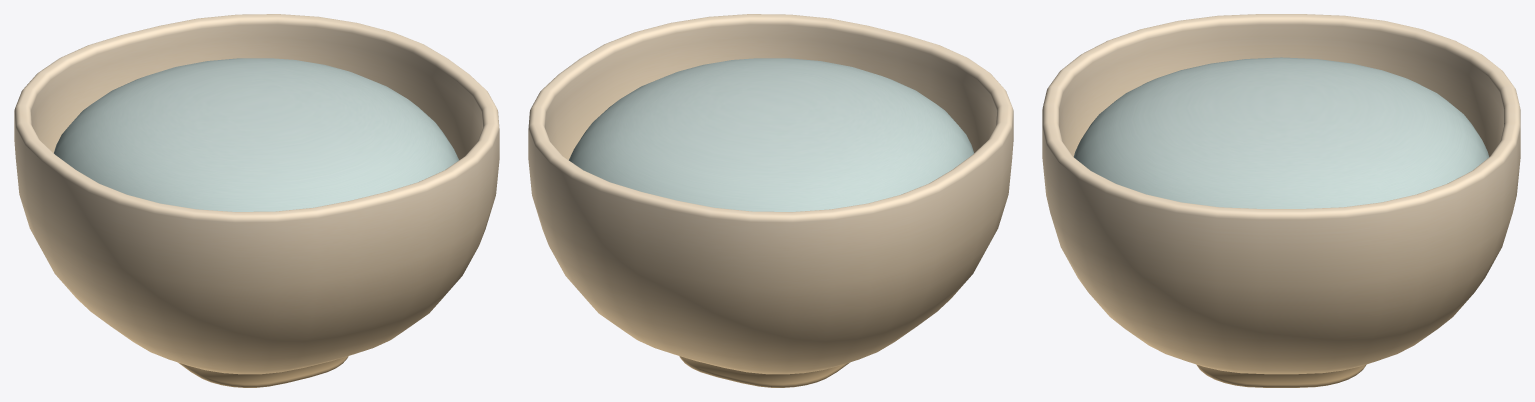
File: Cupcake_Dough_Bowl.fbx
The picture shows the model from 3 angles, left to right: view 1: azimuth 30°, elevation 25°; view 2: azimuth 150°, elevation 25°; view 3: azimuth 270°, elevation 25°; orthographic projection.
Visible parts, largest first — view 1: Cupcake_Dough_Bowl; view 2: Cupcake_Dough_Bowl; view 3: Cupcake_Dough_Bowl.
Boxes of the visible parts, box(x1,y1,x2,y2) form: Cupcake_Dough_Bowl: box(14, 14, 499, 387); Cupcake_Dough_Bowl: box(528, 14, 1013, 387); Cupcake_Dough_Bowl: box(1042, 14, 1520, 387).
Size of the model in its own units: 32.71 by 18.93 by 32.71.
